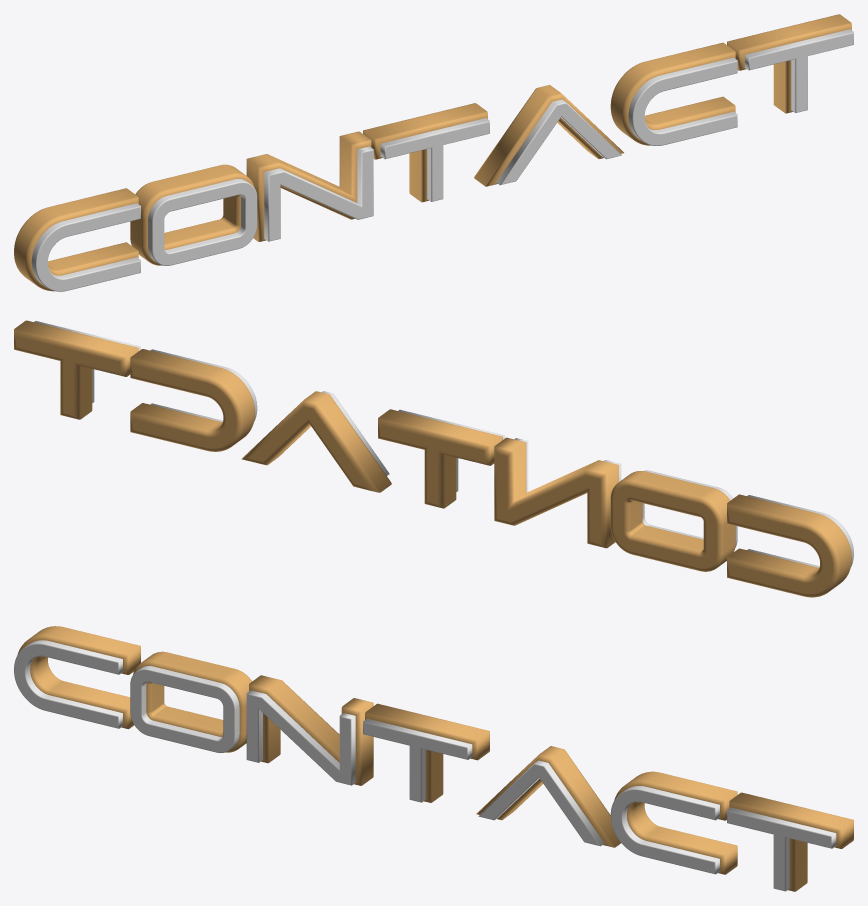
File: contact_header-transformed.glb
The picture shows the model from 3 angles, top to bottom: view 1: azimuth 30°, elevation 25°; view 2: azimuth 150°, elevation 25°; view 3: azimuth 330°, elevation 25°; orthographic projection.
Parts seen in each view (by area): view 1: Bevel, Text_projekte; view 2: Bevel, Text_projekte; view 3: Bevel, Text_projekte.
Part boxes in pixels (x1,y1,x2,y2): Bevel: (14, 14, 851, 291); Text_projekte: (31, 29, 853, 291); Bevel: (14, 320, 851, 597); Text_projekte: (34, 321, 853, 567); Bevel: (17, 626, 853, 891); Text_projekte: (14, 640, 836, 891).
Bounding box in the file's own units: 8.88 × 0.7666 × 0.3803.
